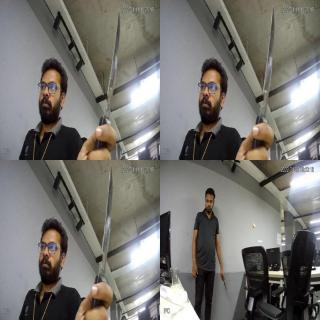knife: (101, 9, 121, 123), (259, 6, 277, 128), (99, 164, 113, 290), (222, 274, 228, 292)
